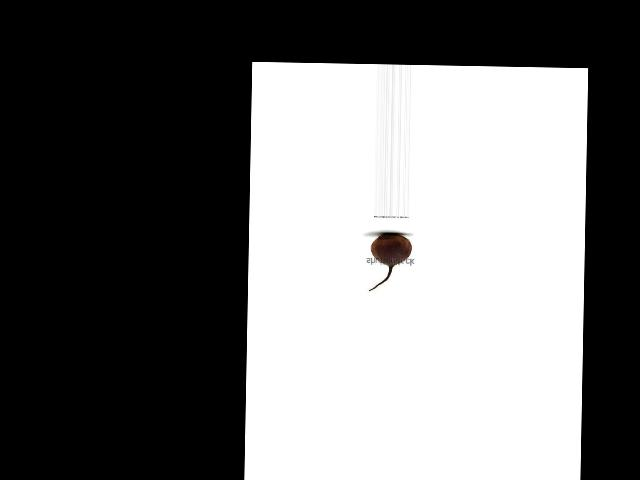beet: (369, 232, 412, 291)
